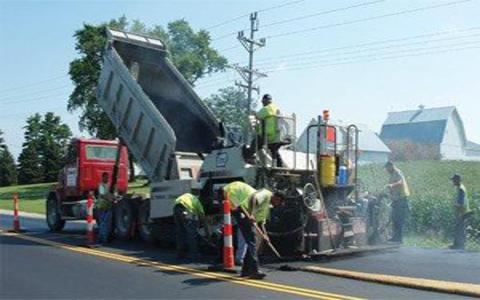Proper road: (4, 241, 156, 300)
